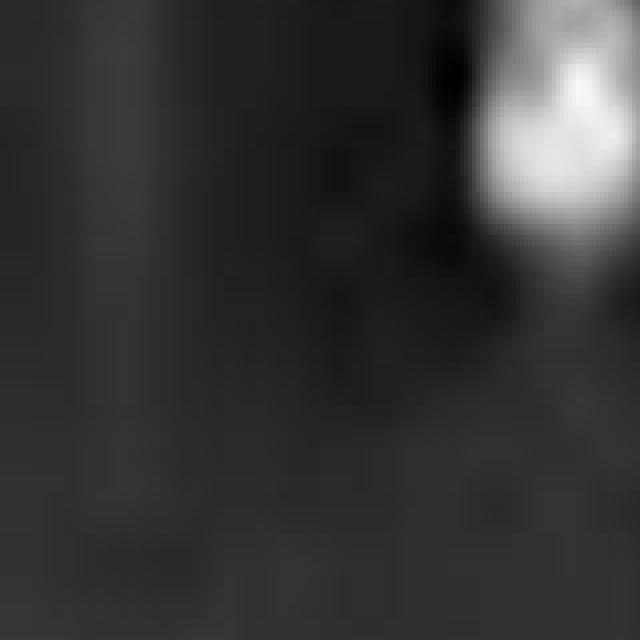person: (441, 1, 640, 348)
